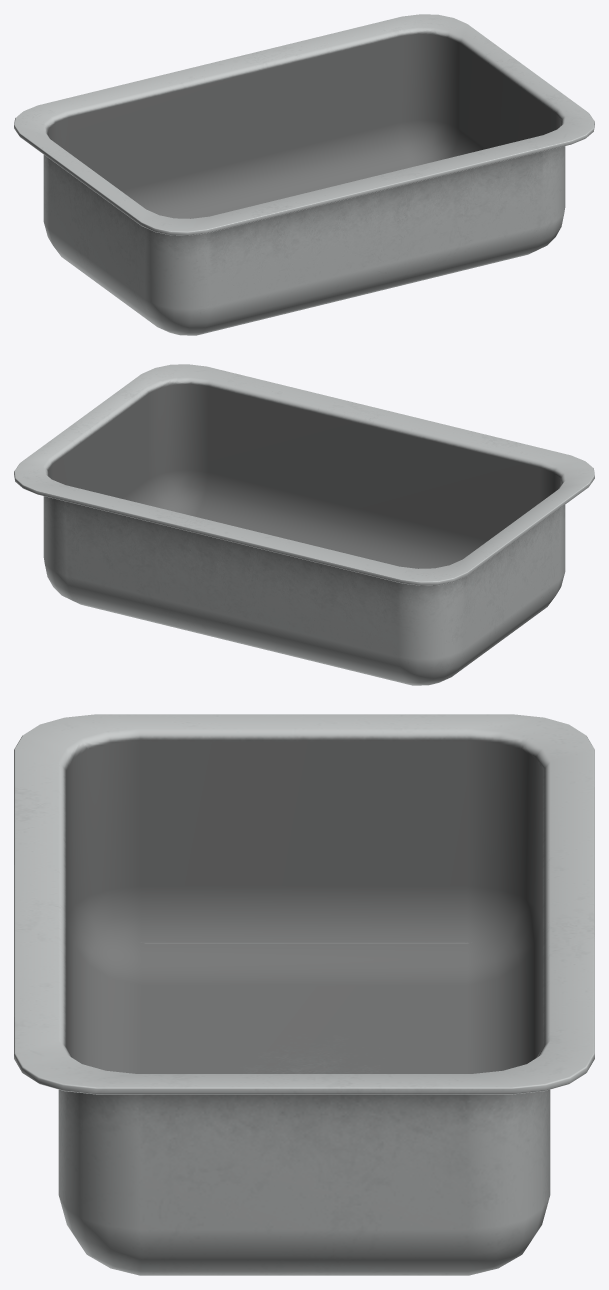
Rendered from Container.FBX.
The picture shows the model from 3 angles, top to bottom: view 1: azimuth 30°, elevation 25°; view 2: azimuth 150°, elevation 25°; view 3: azimuth 270°, elevation 25°; orthographic projection. The views are drawn at different scales.
Parts seen in each view (by area): view 1: Container; view 2: Container; view 3: Container.
Boxes of the visible parts, left/top/right/bottom form: Container: left=14, top=14, right=594, bottom=335; Container: left=14, top=364, right=594, bottom=685; Container: left=14, top=714, right=594, bottom=1275.
Size of the model in its own units: 53.99 by 15.5 by 35.45.
Materials: 1 (1 with a texture image).
